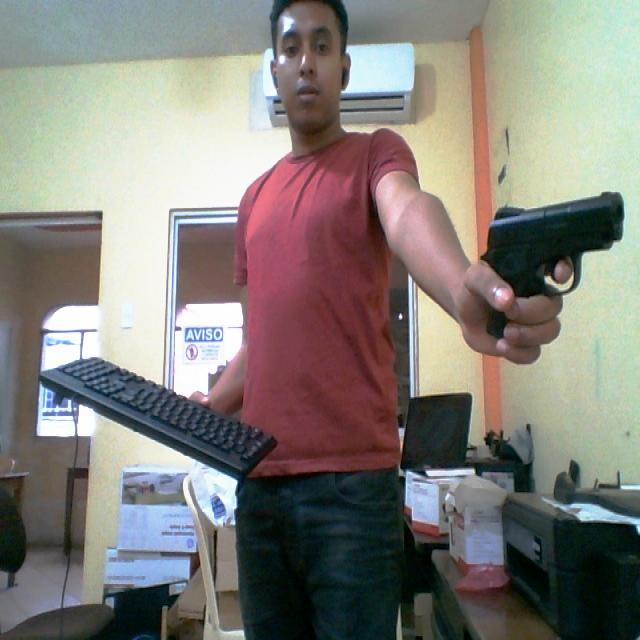Gun: (477, 188, 634, 349)
